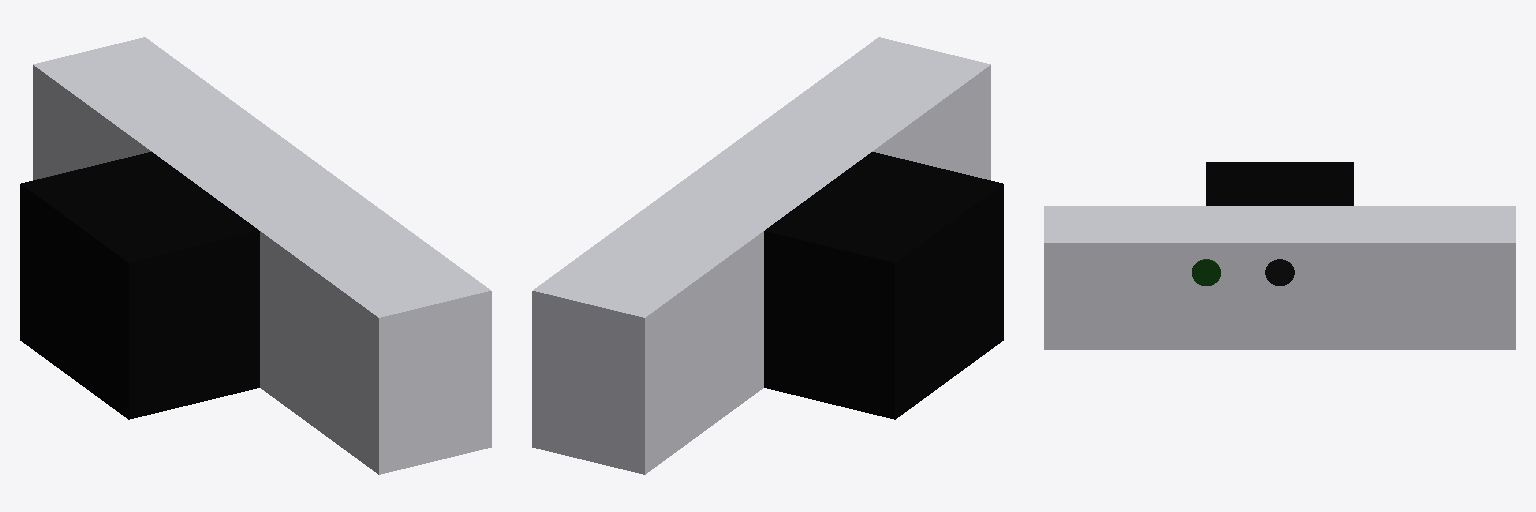
The robot description file, URDF, robot "realsense":
<?xml version="1.0" ?>
<robot name="realsense" xmlns:xacro="http://ros.org/wiki/xacro">
  
  <link name="base_link">
    <visual>
      <origin xyz="0.015 0 0" rpy="0 0 0" />
      <geometry>
        <box size="0.03 0.16 0.04" />
      </geometry>
      <material name="silver">
        <color rgba="0.85 0.85 0.88 1"/>
      </material>
    </visual>
    <collision>
      <origin xyz="0.015 0 0" rpy="0 0 0" />
      <geometry>
        <box size="0.03 0.16 0.04" />
      </geometry>
      <material name="silver">
        <color rgba="0.85 0.85 0.88 1"/>
      </material>
    </collision>
    <inertial>
      <origin rpy="0 0 0" xyz="0 0 0"/>
      <mass value="0.05"/>
      <inertia ixx="0" ixy="0" ixz="0" iyy="0" iyz="0" izz="0"/>
    </inertial>
  </link>

  <link name="tail">
    <visual>
      <origin xyz="-0.0175 0.0 0.0" rpy="0 0 0" />
      <geometry>
        <box size="0.035 0.05 0.04" />
      </geometry>
      <material name="black">
        <color rgba="0.05 0.05 0.05 1"/>
      </material>
    </visual>
    <collision>
      <origin xyz="-0.0175 0.0 0.0" rpy="0 0 0" />
      <geometry>
        <box size="0.035 0.05 0.04" />
      </geometry>
      <material name="black">
        <color rgba="0.05 0.05 0.05 1"/>
      </material>
    </collision>
    <inertial>
      <origin rpy="0 0 0" xyz="0 0 0"/>
      <mass value="0.05"/>
      <inertia ixx="0" ixy="0" ixz="0" iyy="0" iyz="0" izz="0"/>
    </inertial>
  </link>

  <link name="IR_camera">
    <visual>
      <origin xyz="0 0 0" rpy="0 0 0" />
      <geometry>
        <cylinder radius="0.005" length="0.006"/>
      </geometry>
      <material name="blackgreen">
        <color rgba="0.09 0.29 0.09 1"/>
      </material>
    </visual>
    <collision>
      <origin xyz="0 0 0" rpy="0 0 0" />
      <geometry>
        <cylinder radius="0.005" length="0.006"/>
      </geometry>
      <material name="blackgreen">
        <color rgba="0.09 0.29 0.09 1"/>
      </material>
    </collision>
  </link>

  <link name="RGB_camera">
    <visual>
      <origin xyz="0 0 0" rpy="0 0 0" />
      <geometry>
        <cylinder radius="0.005" length="0.006"/>
      </geometry>
      <material name="blackish">
        <color rgba="0.09 0.09 0.09 1"/>
      </material>
    </visual>
    <collision>
      <origin xyz="0 0 0" rpy="0 0 0" />
      <geometry>
        <cylinder radius="0.005" length="0.006"/>
      </geometry>
      <material name="blackish">
        <color rgba="0.09 0.09 0.09 1"/>
      </material>
    </collision>
  </link>

<!-- Joints -->

  <joint name="fixed_tail" type="fixed">
    <origin xyz="0.0 0.0 0.0" rpy="0 0 0" />
    <axis xyz="0 0 0" />
    <parent link="base_link" />
    <child link="tail" />
  </joint>

  <joint name="fixed_ir" type="fixed">
    <origin xyz="0.0275 -0.025 0.009" rpy="0 1.58 0" />
    <axis xyz="0 0 0" />
    <parent link="base_link" />
    <child link="IR_camera" />
  </joint>

  <joint name="fixed_rgb" type="fixed">
    <origin xyz="0.0275 0.0 0.009" rpy="0 1.58 0" />
    <axis xyz="0 0 0" />
    <parent link="base_link" />
    <child link="RGB_camera" />
  </joint>

</robot>

--- What the picture shows (computed from the rendered views, not written in the file) ---
The picture shows the robot from 3 angles, left to right: view 1: azimuth 30°, elevation 25°; view 2: azimuth 150°, elevation 25°; view 3: azimuth 270°, elevation 25°; orthographic projection.
Model realsense with 4 links and 3 joints (3 fixed), rooted at base_link, posed every joint at zero.
Links seen in each view (by area): view 1: base_link, tail; view 2: base_link, tail; view 3: base_link, tail, IR_camera, RGB_camera.
Link boxes in pixels (<box>): base_link: <box>33,37,491,474</box>; tail: <box>20,152,259,419</box>; base_link: <box>532,37,990,474</box>; tail: <box>764,152,1003,419</box>; base_link: <box>1044,206,1515,349</box>; tail: <box>1206,162,1353,205</box>; IR_camera: <box>1192,259,1220,285</box>; RGB_camera: <box>1265,259,1294,285</box>.
Bounding box of the posed robot: 0.0655 × 0.16 × 0.04 m (x, y, z).
Geometry: primitives only (box / cylinder / sphere), no mesh files.